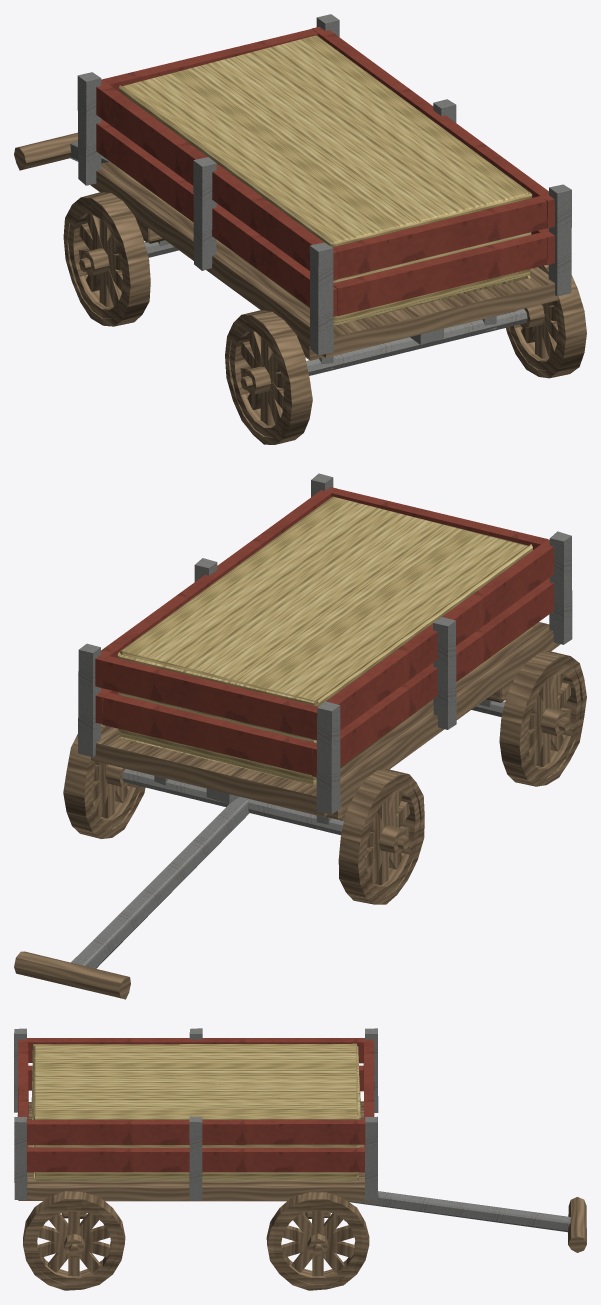
File: pull_wagon.glb
3 views of the same model, one above another, from view 1: azimuth 30°, elevation 25°; view 2: azimuth 150°, elevation 25°; view 3: azimuth 270°, elevation 25° (orthographic). The views are drawn at different scales.
Visible parts, largest first — view 1: PullWagon, HayFill, Wheel_L1, Wheel_L2, Wheel_R2; view 2: PullWagon, HayFill, Wheel_L1, Wheel_L2, Wheel_R1; view 3: PullWagon, HayFill, Wheel_R2, Wheel_R1.
Boxes of the visible parts, x1=… form: PullWagon: x1=14, y1=14, x2=571, y2=375; HayFill: x1=119, y1=35, x2=532, y2=324; Wheel_L1: x1=63, y1=192, x2=150, y2=326; Wheel_L2: x1=225, y1=310, x2=312, y2=444; Wheel_R2: x1=506, y1=265, x2=586, y2=378; PullWagon: x1=14, y1=473, x2=572, y2=999; HayFill: x1=117, y1=496, x2=532, y2=785; Wheel_L1: x1=338, y1=769, x2=424, y2=904; Wheel_L2: x1=499, y1=651, x2=586, y2=786; Wheel_R1: x1=63, y1=724, x2=145, y2=838; PullWagon: x1=14, y1=1028, x2=586, y2=1252; HayFill: x1=31, y1=1043, x2=360, y2=1181; Wheel_R2: x1=23, y1=1191, x2=125, y2=1290; Wheel_R1: x1=266, y1=1192, x2=369, y2=1290.
Size of the model in its own units: 1.55 by 0.9802 by 3.16.
Materials: 4 (4 with a texture image).
